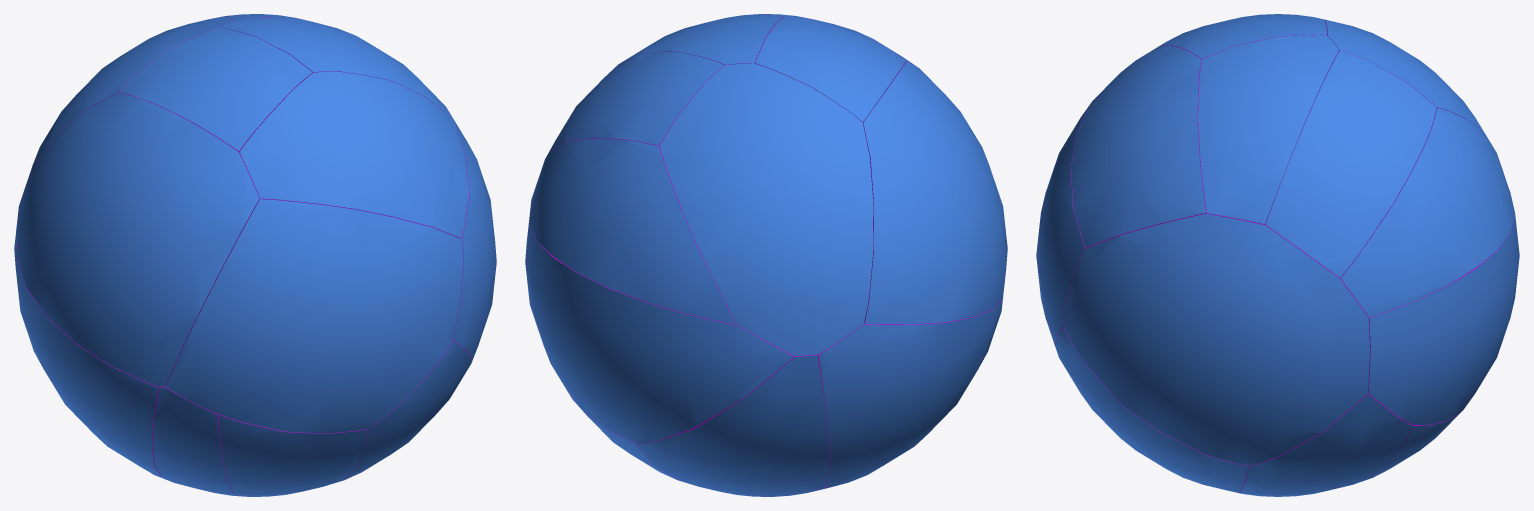
The model's file is Singularity.fbx.
The picture shows the model from 3 angles, left to right: view 1: azimuth 30°, elevation 25°; view 2: azimuth 150°, elevation 25°; view 3: azimuth 270°, elevation 25°; orthographic projection.
Parts seen in each view (by area): view 1: Sphere_cell.011, Sphere_cell.009, Sphere_cell.003, Sphere_cell.010, Sphere_cell.002, Sphere_cell.015, Sphere_cell.007, Sphere_cell.006, Sphere_cell.004, Sphere_cell.019, Sphere_cell.008; view 2: Sphere_cell.008, Sphere_cell.009, Sphere_cell.012, Sphere_cell, Sphere_cell.002, Sphere_cell.013, Sphere_cell.017, Sphere_cell.010, Sphere_cell.007, Sphere_cell.005; view 3: Sphere_cell.004, Sphere_cell.017, Sphere_cell.003, Sphere_cell, Sphere_cell.007, Sphere_cell.012, Sphere_cell.014, Sphere_cell.019, Sphere_cell.011, Sphere_cell.008, Sphere_cell.010, Sphere_cell.005.
Part boxes in pixels (<box>): Sphere_cell.011: <box>165,199,463,433</box>; Sphere_cell.009: <box>16,92,259,386</box>; Sphere_cell.003: <box>239,71,469,238</box>; Sphere_cell.010: <box>118,27,312,152</box>; Sphere_cell.002: <box>14,228,160,475</box>; Sphere_cell.015: <box>218,414,368,496</box>; Sphere_cell.007: <box>218,17,452,119</box>; Sphere_cell.006: <box>153,385,239,496</box>; Sphere_cell.004: <box>447,109,496,359</box>; Sphere_cell.019: <box>343,339,472,480</box>; Sphere_cell.008: <box>23,16,234,193</box>; Sphere_cell.008: <box>659,63,873,356</box>; Sphere_cell.009: <box>863,61,1007,324</box>; Sphere_cell.012: <box>525,214,794,443</box>; Sphere_cell: <box>529,138,737,324</box>; Sphere_cell.002: <box>817,299,1002,487</box>; Sphere_cell.013: <box>637,354,828,496</box>; Sphere_cell.017: <box>548,51,724,153</box>; Sphere_cell.010: <box>755,17,905,122</box>; Sphere_cell.007: <box>616,14,783,66</box>; Sphere_cell.005: <box>565,387,677,480</box>; Sphere_cell.004: <box>1064,213,1370,465</box>; Sphere_cell.017: <box>1265,50,1436,277</box>; Sphere_cell.003: <box>1071,45,1207,248</box>; Sphere_cell: <box>1339,108,1515,317</box>; Sphere_cell.007: <box>1198,35,1339,225</box>; Sphere_cell.012: <box>1368,216,1519,425</box>; Sphere_cell.014: <box>1238,393,1411,496</box>; Sphere_cell.019: <box>1055,327,1248,492</box>; Sphere_cell.011: <box>1036,92,1101,346</box>; Sphere_cell.008: <box>1325,19,1488,139</box>; Sphere_cell.010: <box>1158,14,1327,59</box>; Sphere_cell.005: <box>1363,412,1460,480</box>.
Size of the model in its own units: 200 by 200 by 200.
